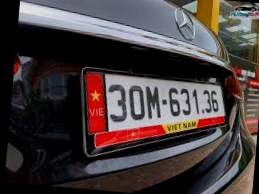Bien-so: (91, 72, 225, 133)
